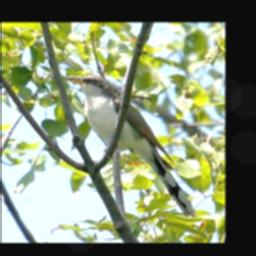Cuckoo: (63, 73, 197, 218)
